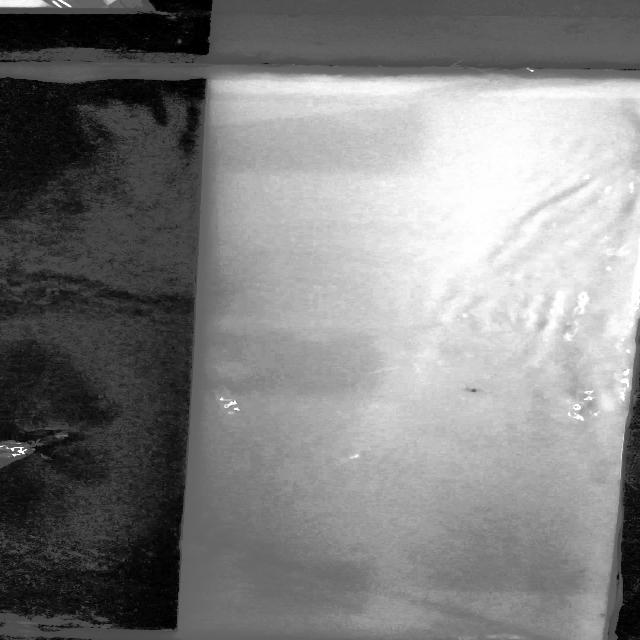shrimp: (451, 383, 494, 396)
